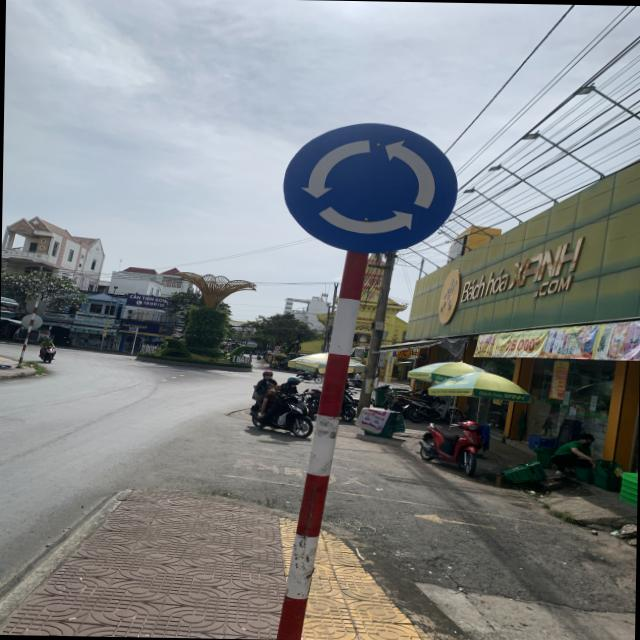Xe_Bus: (279, 120, 462, 256)
